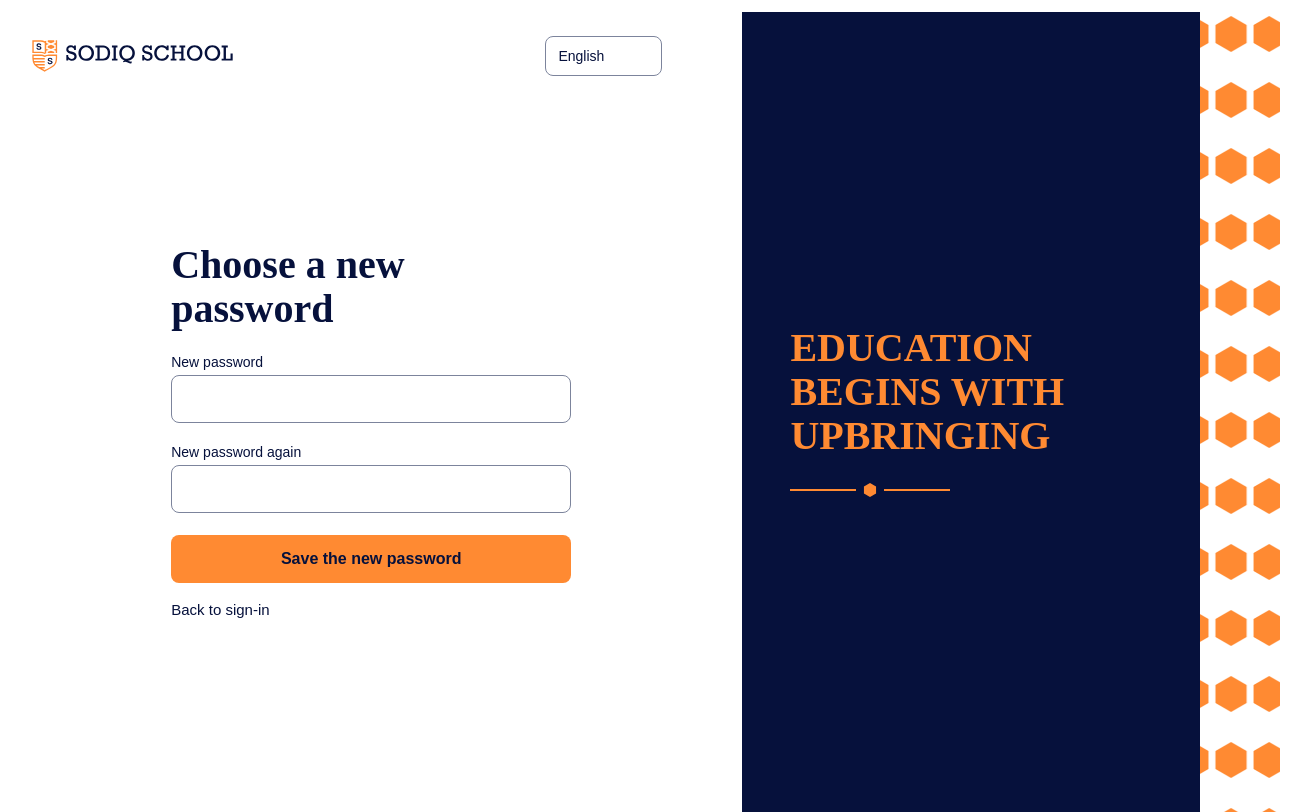
Test case: the page of the reset link › shows reset_link_expired and offers a new link
Type "a chosen new password 7" into the password field labelled "New password" at {"x": 371, "y": 399}, box [171,375,571,423]
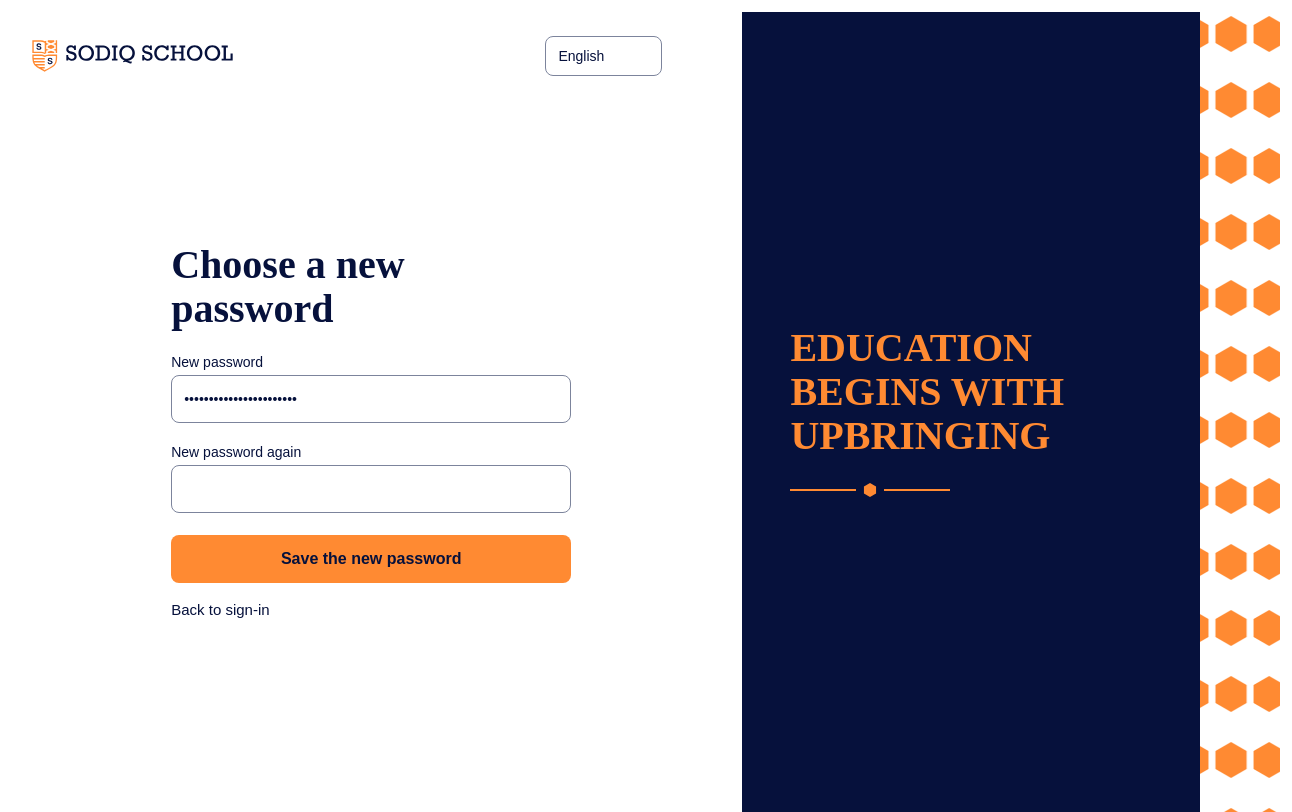
Type "a chosen new password 7" into the password field labelled "New password again" at {"x": 371, "y": 489}, box [171,465,571,513]
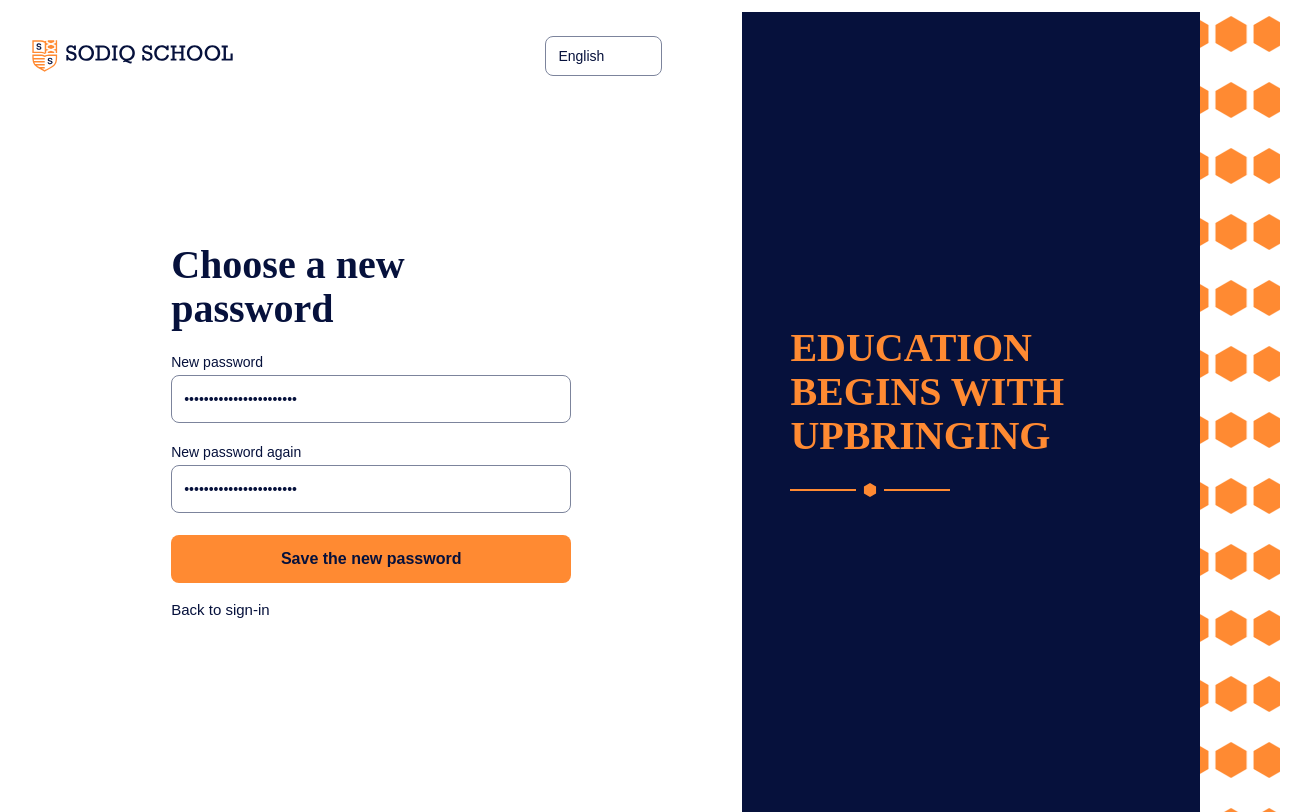
Click the button "Save the new password" at {"x": 371, "y": 559}, box [171,535,571,583]
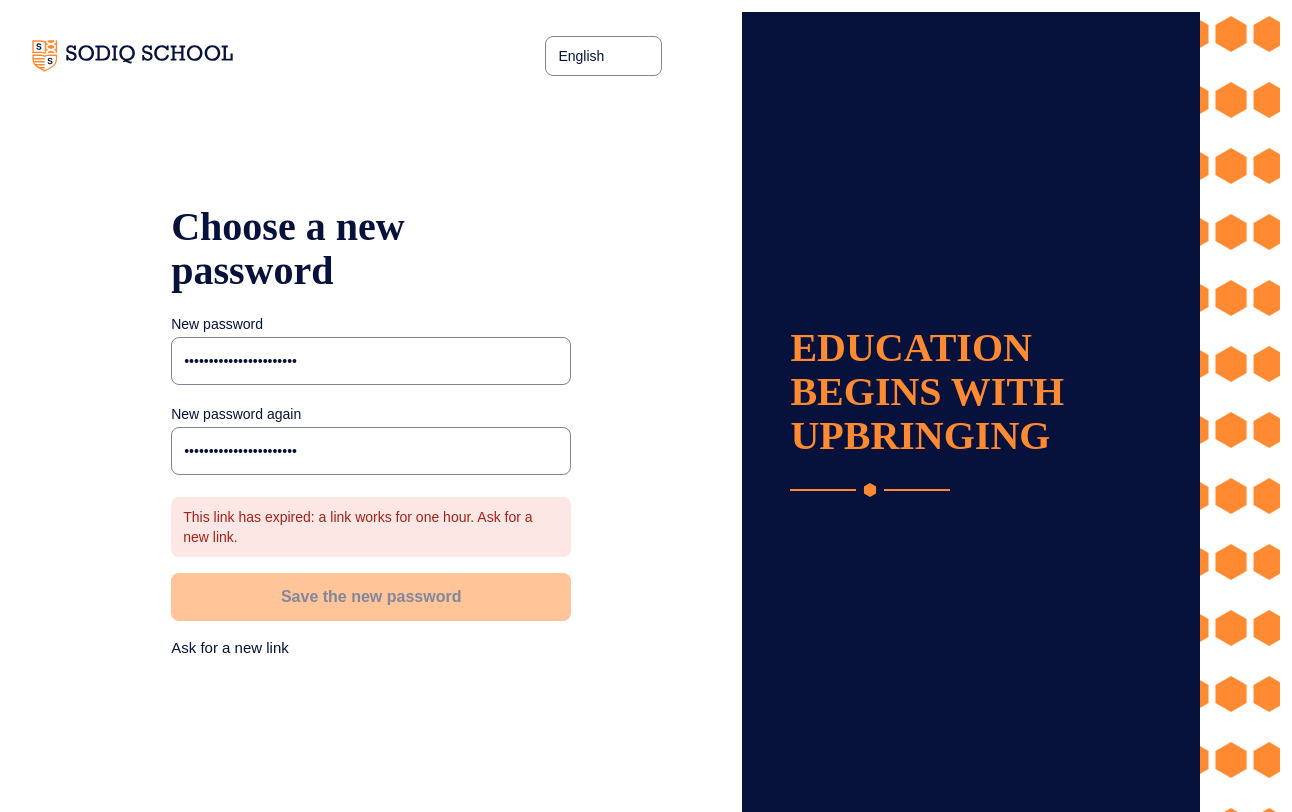
Expected: the text "This link has expired: a link works for one hour. Ask for a new link." is shown, [183,507,559,547]
Expected: the button "Save the new password" is disabled, [171,573,571,621]
